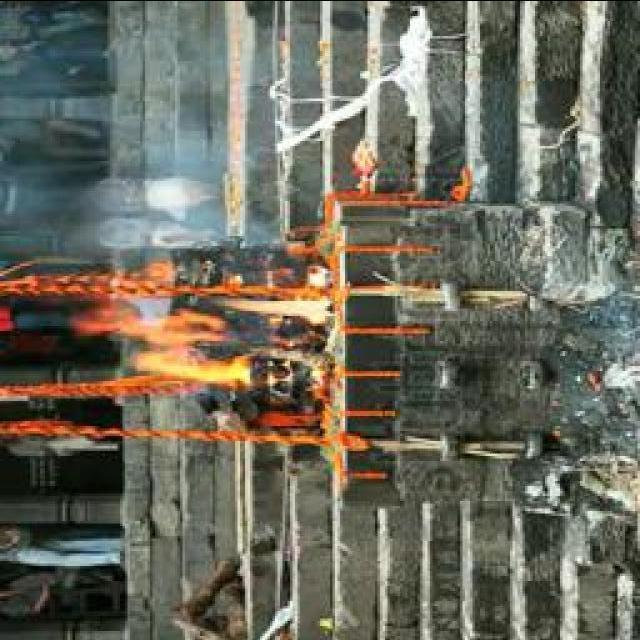Fire: (80, 289, 338, 382)
